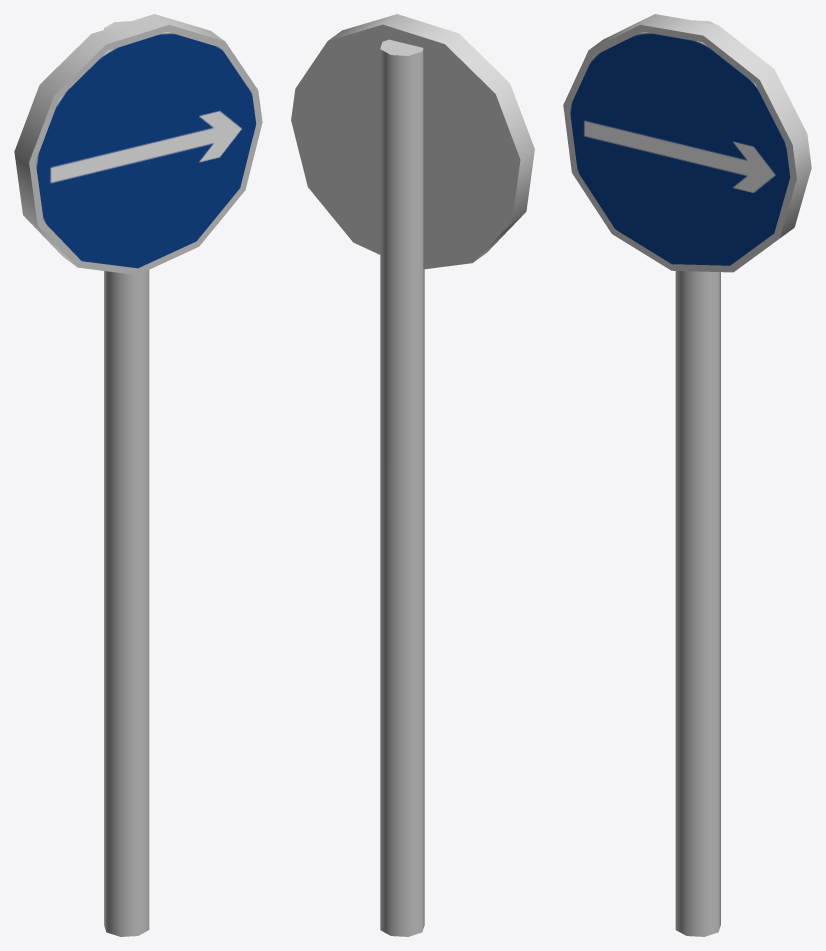
The model's file is ONEWAY(R).fbx.
3 renders of one model, left to right at view 1: azimuth 30°, elevation 25°; view 2: azimuth 150°, elevation 25°; view 3: azimuth 330°, elevation 25°, orthographic.
Visible parts, largest first — view 1: pasted__pasted__layer 7; view 2: pasted__pasted__layer 7; view 3: pasted__pasted__layer 7.
Boxes of the visible parts, x1=… form: pasted__pasted__layer 7: x1=14, y1=14, x2=262, y2=936; pasted__pasted__layer 7: x1=291, y1=14, x2=534, y2=936; pasted__pasted__layer 7: x1=563, y1=14, x2=811, y2=936.
Size of the model in its own units: 1.02 by 3.81 by 0.2327.
2 materials, 1 textured.
